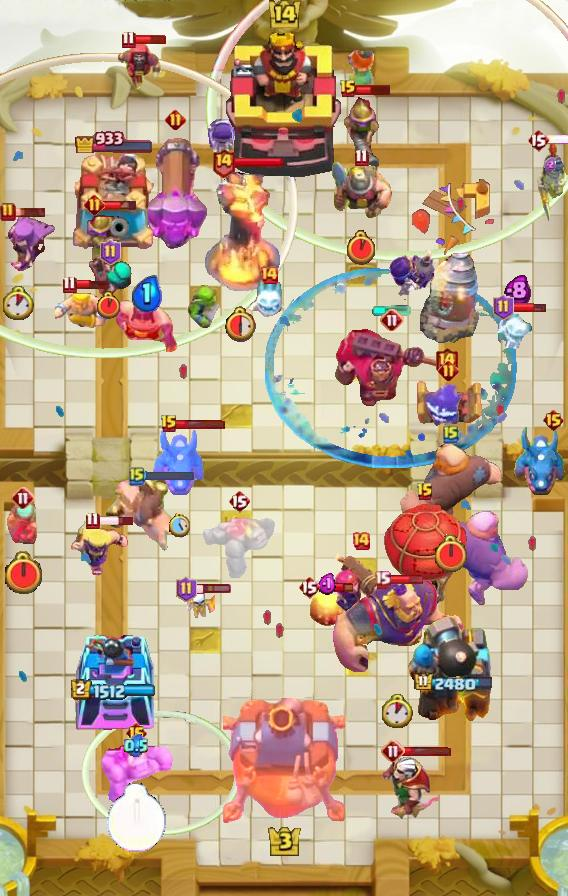bar: (143, 470, 195, 482), (233, 156, 285, 168), (402, 746, 452, 757), (176, 419, 226, 430), (355, 83, 392, 96), (511, 301, 547, 314), (319, 581, 354, 594), (195, 583, 232, 595), (98, 515, 135, 527), (10, 206, 47, 218), (103, 199, 138, 211), (74, 279, 110, 290), (389, 574, 424, 585), (133, 34, 167, 45), (547, 134, 568, 145)
bar-level: (434, 346, 459, 377), (211, 147, 236, 178), (381, 739, 405, 763), (11, 486, 35, 510), (380, 308, 404, 332), (125, 721, 148, 745), (542, 408, 565, 432), (176, 576, 197, 602), (493, 294, 514, 320), (100, 239, 121, 265), (298, 575, 320, 599), (228, 489, 250, 513), (527, 128, 549, 152), (438, 360, 459, 381), (84, 194, 105, 215), (165, 109, 186, 130), (351, 531, 371, 551), (259, 265, 279, 285), (416, 482, 434, 502), (160, 414, 178, 434), (339, 79, 357, 99), (374, 570, 391, 589), (129, 466, 145, 486), (443, 424, 459, 444), (0, 202, 16, 222), (85, 511, 100, 530), (62, 275, 77, 294), (354, 148, 369, 167), (121, 30, 136, 49)
barbarian: (55, 288, 111, 332)
barbarian-evolution: (70, 519, 130, 577)
bomber-evolution: (388, 250, 440, 306)
cannoneer-tower: (403, 615, 503, 731)
clock: (106, 783, 167, 853), (3, 551, 44, 596), (433, 534, 469, 574), (225, 305, 259, 342), (382, 694, 413, 728), (3, 286, 34, 320), (347, 230, 375, 265), (97, 291, 120, 319), (169, 513, 190, 537)
electro-dragon: (512, 425, 568, 499), (151, 425, 207, 499)
electro-spirit: (424, 382, 468, 430)
elixir: (131, 275, 162, 312), (504, 274, 531, 306), (124, 734, 148, 758), (318, 573, 337, 595), (544, 157, 556, 172)
executioner: (114, 296, 178, 356)
firecracker-evolution: (331, 548, 391, 634)
goblin: (182, 285, 222, 329)
golemite: (201, 513, 277, 581), (99, 744, 174, 804)
guard: (533, 140, 567, 222)
ice-spirit: (494, 307, 540, 351), (247, 279, 292, 321)
king-tower: (224, 29, 344, 181), (223, 698, 345, 826)
miner: (330, 159, 392, 223)
mother-witch: (0, 212, 55, 275)
musketeer: (342, 94, 384, 168), (87, 210, 129, 278)
phoenix-egg: (310, 589, 344, 627)
queen-tower: (66, 154, 162, 256), (73, 623, 155, 731)
rascal-girl: (87, 255, 133, 301), (5, 500, 41, 548)
skeleton: (187, 589, 215, 621)
skeleton-evolution: (205, 119, 236, 159)
tesla: (413, 378, 483, 428)
tower-bar: (74, 128, 155, 153), (71, 679, 157, 701), (413, 672, 494, 694)
valkyrie: (341, 45, 379, 97)
wizard: (113, 40, 165, 96)
